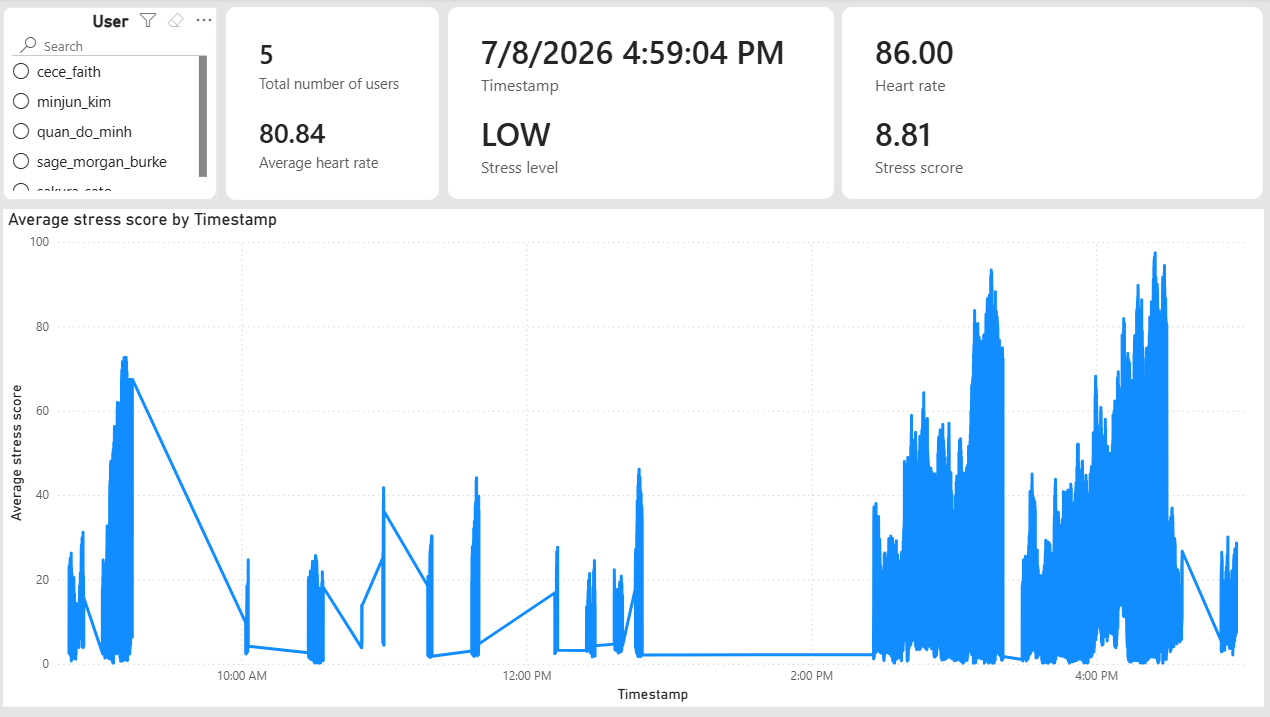

What the dashboard file says about the page in this screenshot:
{"tool":"powerbi","page":{"name":"Page 1","canvas":[1280,720],"ordinal":0},"visuals":[{"type":"listSlicer","title":"User","fields":{"Values":["gold_realtime_user_stress.username"]},"box":[9.2,9.2,213.5,193.2],"z":0},{"type":"cardVisual","fields":{"Data":["Count(gold_realtime_user_stress.user_id)","Avg(gold_realtime_user_stress.heart_rate)"]},"box":[232,9.2,212.6,193.2],"z":1000},{"type":"lineChart","fields":{"Category":["gold_realtime_user_stress.event_time"],"Y":["Avg(gold_realtime_user_stress.stress_score)"]},"box":[9.2,211.6,1261.5,498.1],"z":2000},{"type":"cardVisual","fields":{"Data":["gold_realtime_user_stress.Latest Event Time","gold_realtime_user_stress.Latest Stress Level"]},"box":[454.2,9.5,385.9,192.5],"z":3000},{"type":"cardVisual","fields":{"Data":["gold_realtime_user_stress.Latest Heart Rate","gold_realtime_user_stress.Latest Stress Score"]},"box":[848.6,8.5,421,192.5],"z":4000}]}

Visuals, with their boxes in screenshot pixels (x1, y1, x2, y2), scaled from the page's 1280x720 canvas onto the 1270x717 screenshot:
"User" listSlicer: [x1=9, y1=9, x2=221, y2=202]
cardVisual - Count(gold_realtime_user_stress.user_id) x Avg(gold_realtime_user_stress.heart_rate): [x1=230, y1=9, x2=441, y2=202]
lineChart - gold_realtime_user_stress.event_time x Avg(gold_realtime_user_stress.stress_score): [x1=9, y1=211, x2=1261, y2=707]
cardVisual - gold_realtime_user_stress.Latest Event Time x gold_realtime_user_stress.Latest Stress Level: [x1=451, y1=9, x2=834, y2=201]
cardVisual - gold_realtime_user_stress.Latest Heart Rate x gold_realtime_user_stress.Latest Stress Score: [x1=842, y1=8, x2=1260, y2=200]
